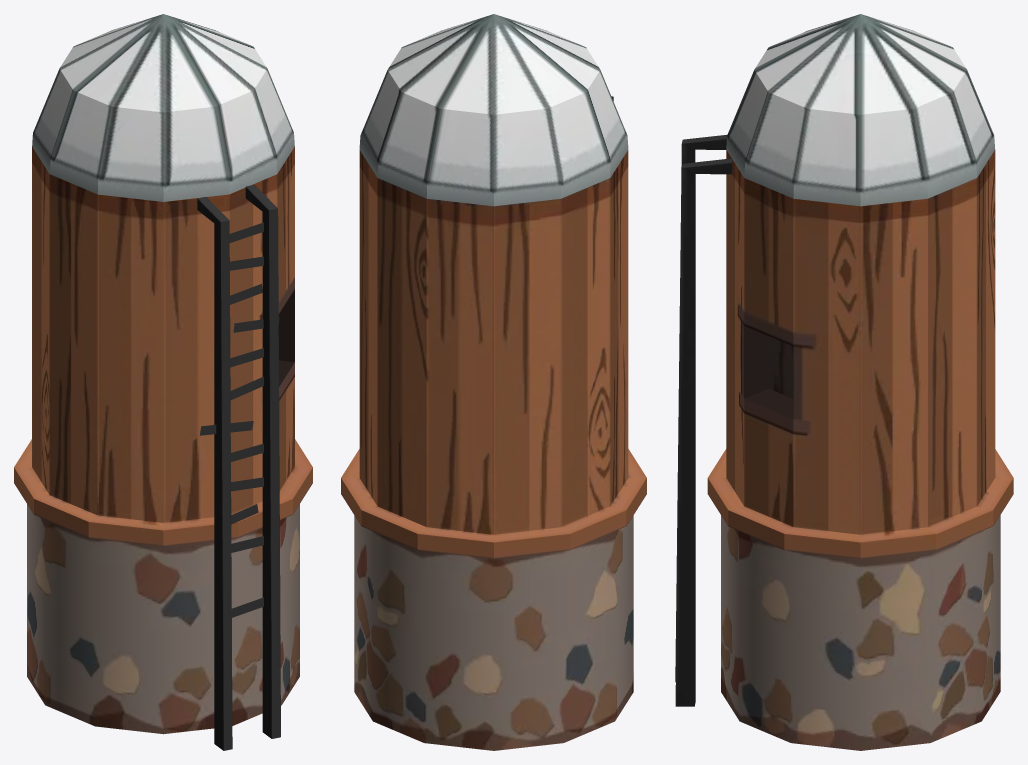
The model's file is farm_silo.glb.
3 renders of one model, left to right at view 1: azimuth 30°, elevation 25°; view 2: azimuth 150°, elevation 25°; view 3: azimuth 270°, elevation 25°, orthographic. The views are drawn at different scales.
Parts seen in each view (by area): view 1: farm:silo; view 2: farm:silo; view 3: farm:silo.
Boxes of the visible parts, x1=… form: farm:silo: x1=14, y1=14, x2=312, y2=750; farm:silo: x1=341, y1=14, x2=646, y2=750; farm:silo: x1=675, y1=14, x2=1013, y2=750.
Bounding box in the file's own units: 2.77 × 6.78 × 3.06.
1 material, 1 textured.
